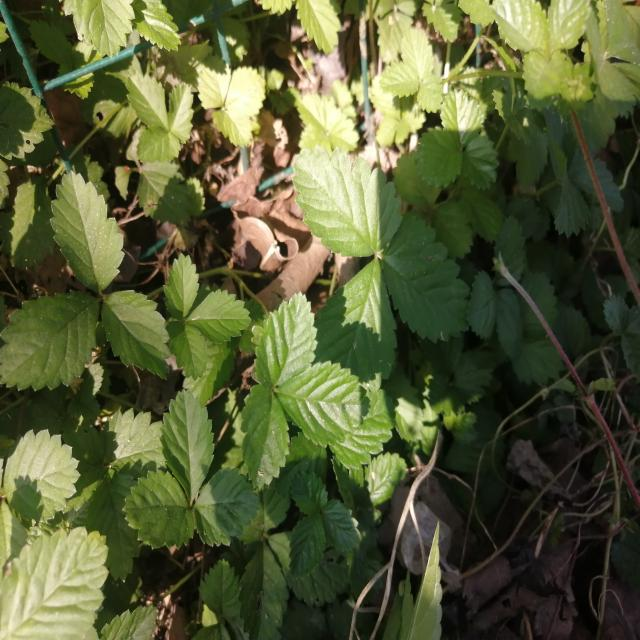Mock_strawberry: (286, 112, 470, 363), (7, 159, 174, 391), (244, 286, 392, 494), (124, 372, 259, 564)
